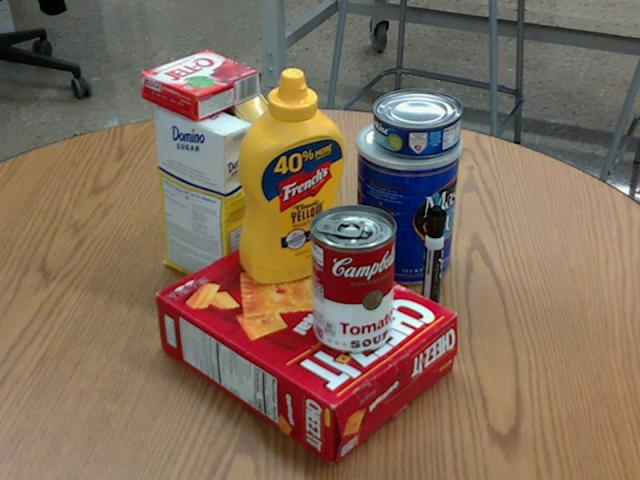cracker_box: (158, 225, 457, 463)
gelatin_box: (141, 50, 260, 120)
large_marker: (418, 205, 445, 321)
master_chef_can: (353, 115, 463, 285)
mug: (201, 150, 290, 254)
mustard_bottle: (236, 67, 344, 282)
potted_meat_can: (182, 87, 305, 211)
sugar_box: (154, 97, 252, 295)
tomato_soup_can: (310, 203, 396, 352)
tuna_fish_can: (373, 89, 462, 157)
